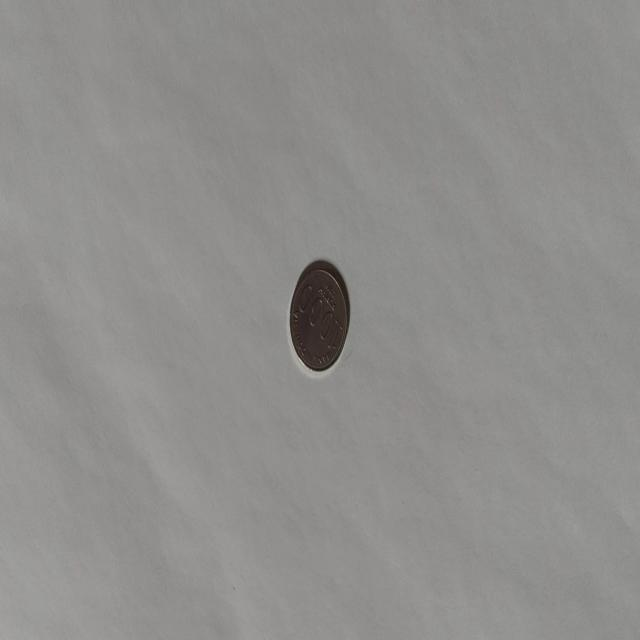seribu rupiah koin: (287, 258, 350, 374)
